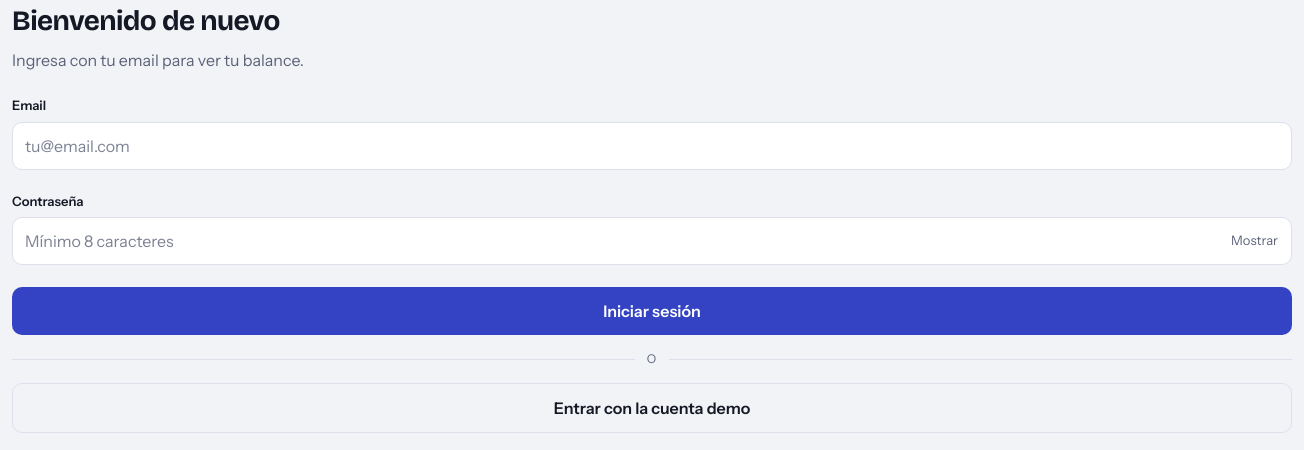
it: LoginComponent › Mostrar/Ocultar cambia el type
The image size is (1304, 450).
Click the button with id "toggle-pass" at x=1255, y=241, box [1223,225,1286,257]
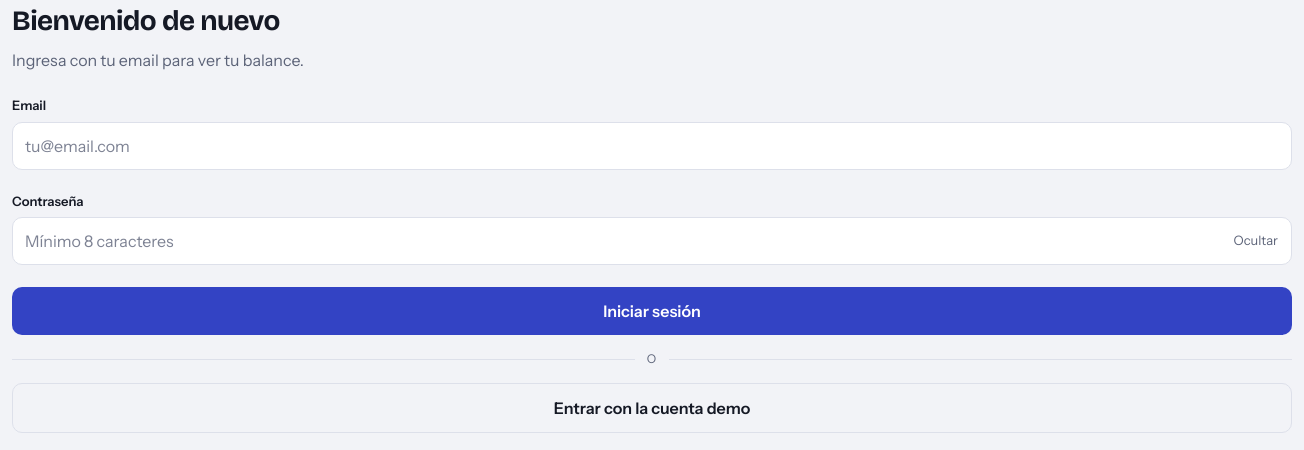
Result: the button with id "toggle-pass" reads "Ocultar" at [1226,225,1286,257]
